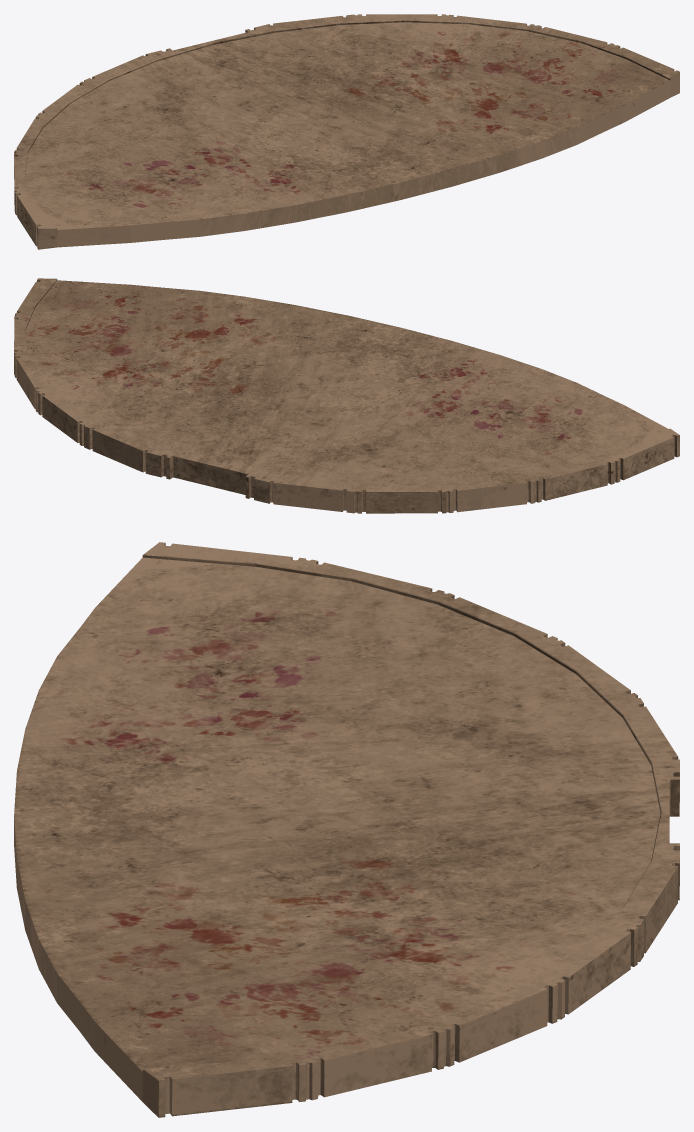
The model's file is scaffold.obj.
3 renders of one model, top to bottom at view 1: azimuth 30°, elevation 25°; view 2: azimuth 150°, elevation 25°; view 3: azimuth 270°, elevation 25°, orthographic. The views are drawn at different scales.
Visible parts, largest first — view 1: scaffold_Plane.047_None; view 2: scaffold_Plane.047_None; view 3: scaffold_Plane.047_None.
Part boxes in pixels (<box>): scaffold_Plane.047_None: <box>14,14,679,249</box>; scaffold_Plane.047_None: <box>14,278,679,513</box>; scaffold_Plane.047_None: <box>14,542,679,1117</box>.
Bounding box in the file's own units: 17.18 × 0.5505 × 8.97.
1 material, 1 textured.
